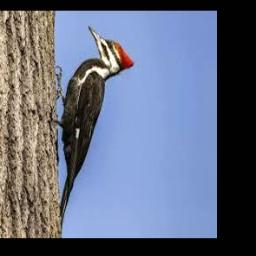Woodpecker: (55, 25, 135, 231)
